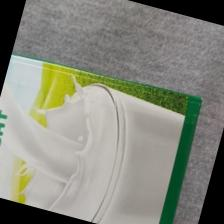Kertas: (0, 58, 183, 224)
